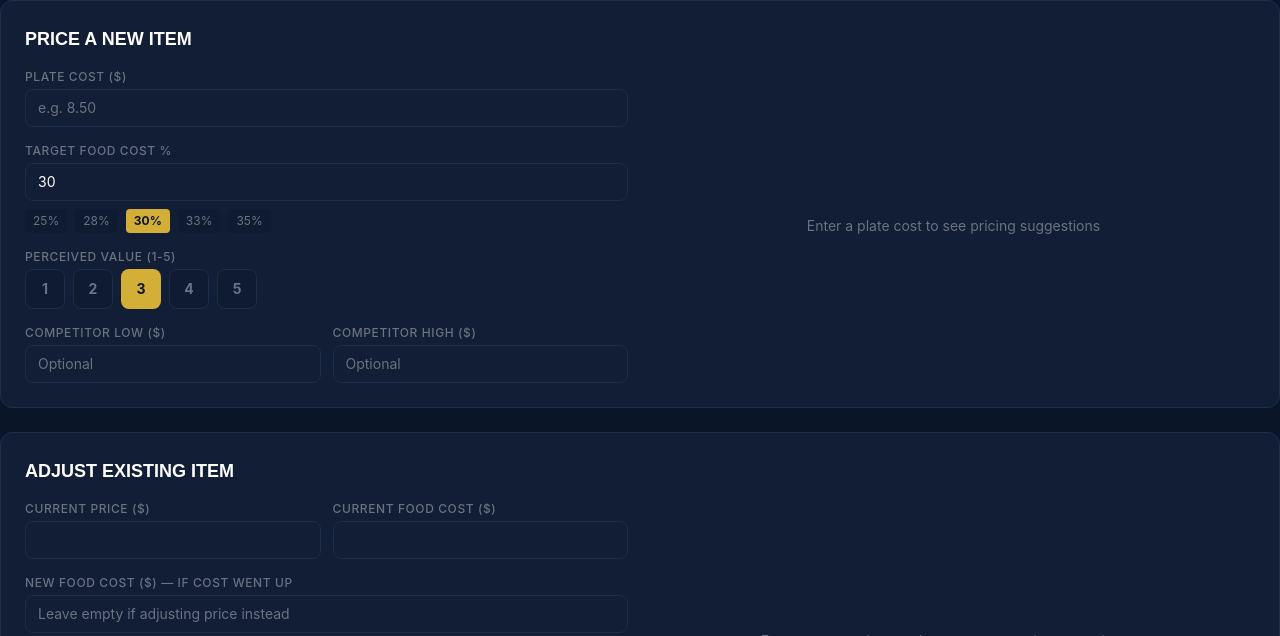
Test: PricingCalculator › ForwardCalculator › shows premium price when perceived value >= 4
Type "9" into the number field with placeholder "e.g. 8.50".
click(326, 108); type("9")  # box [25,89,628,127]
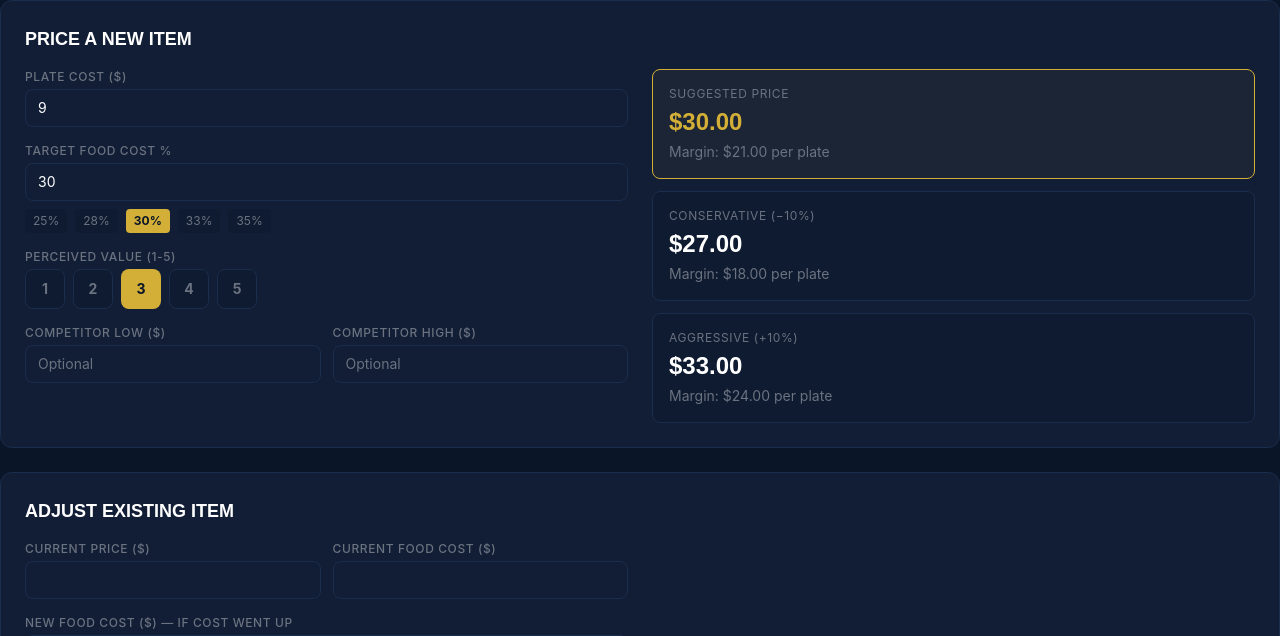
Click perceived value 4
Click the button "4".
click(189, 289)  # box [169,269,209,309]
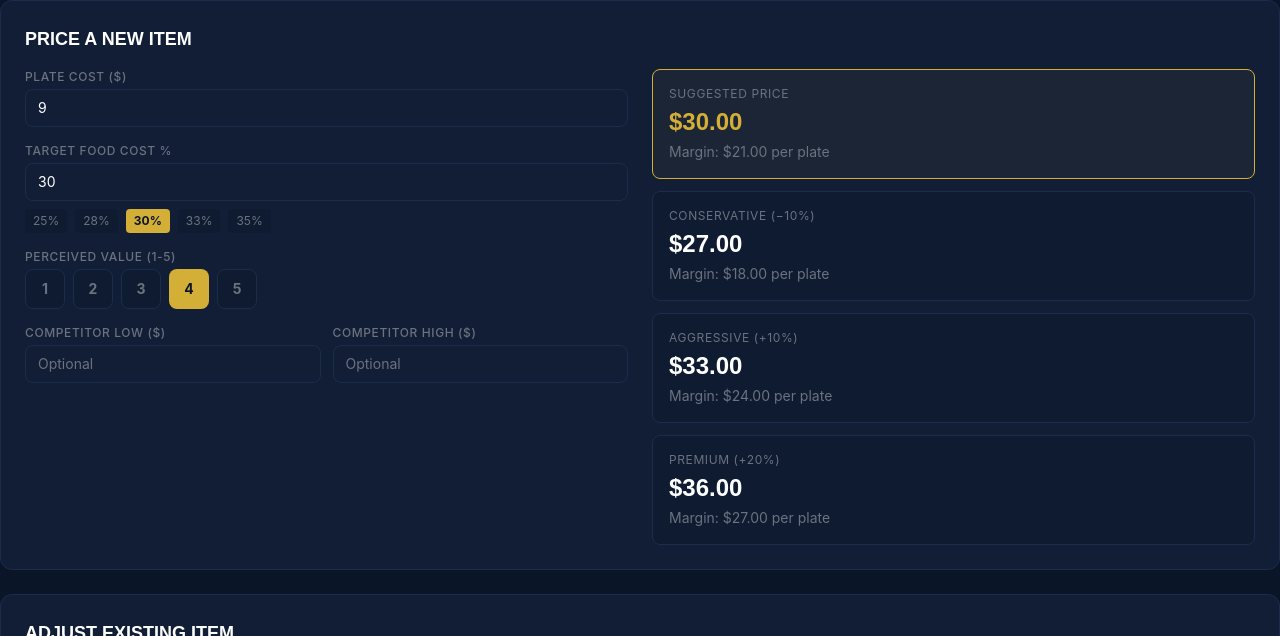
Now the text "Premium (+20%)" is shown, box [669,452,780,467]
Now the text "$36.00" is shown, box [669,474,742,501]
